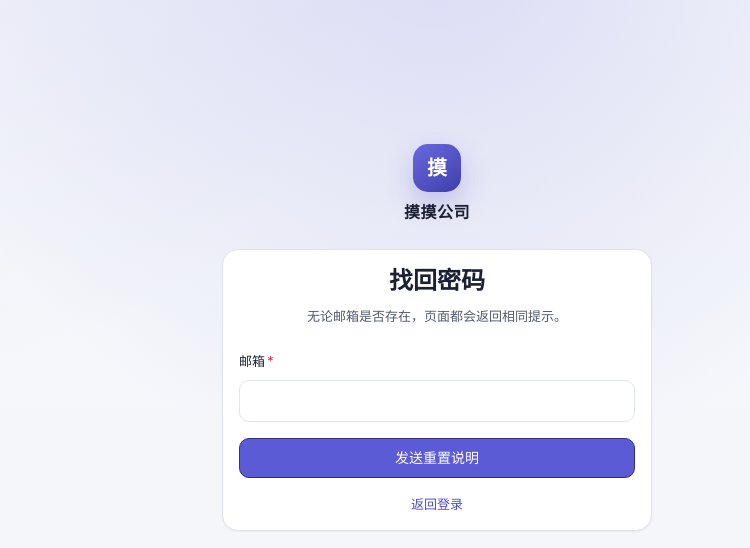
Test: community password reset pages › shows the same non-enumerating success after a reset request
The image size is (750, 548).
In the field labelled "邮箱*": (437, 401) [239,380,635,422], type " User@Example.COM "
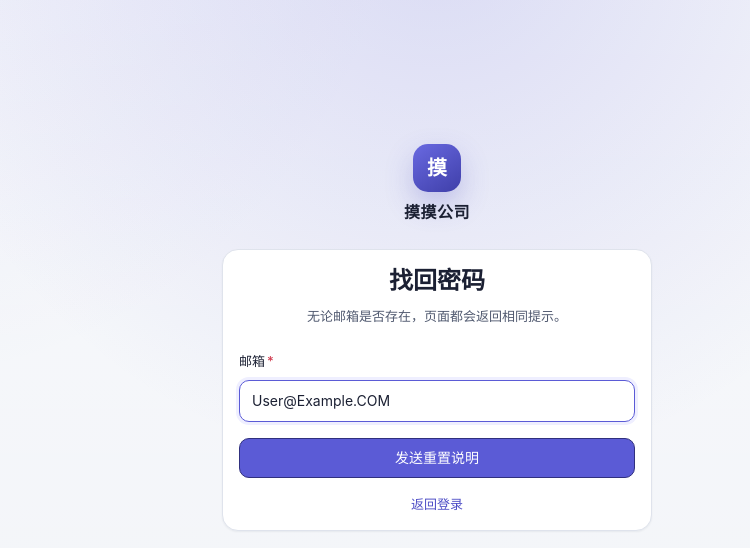
Click the button "发送重置说明": (437, 458) [239,438,635,478]
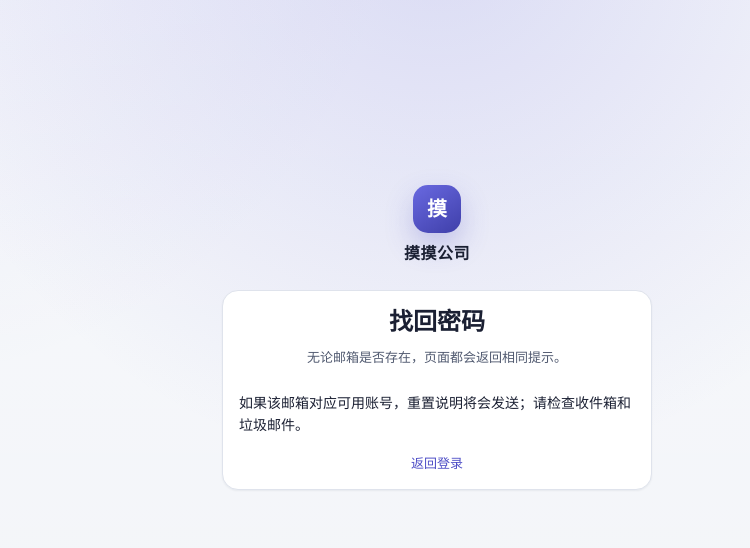
Expected: the message shows "如果该邮箱对应可用账号，重置说明将会发送", [239,394,631,433]
